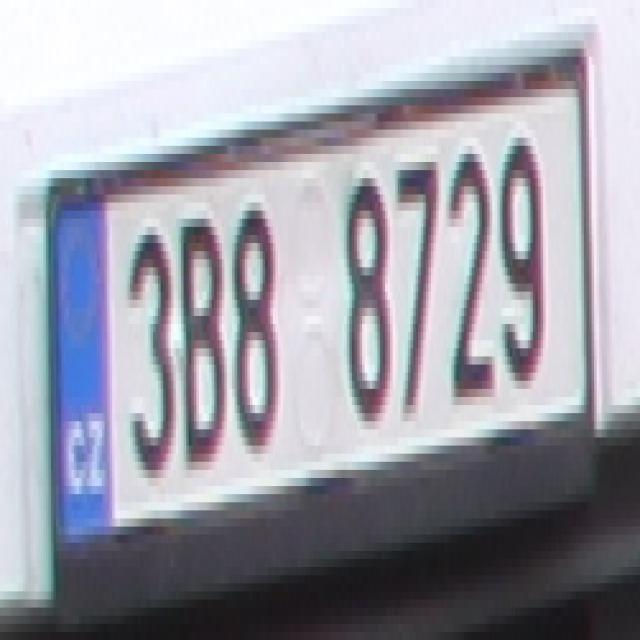2: (449, 146, 492, 397)
3: (127, 227, 171, 470)
7: (393, 154, 441, 413)
8: (344, 178, 393, 430), (230, 195, 280, 438)
9: (500, 121, 543, 372)
B: (178, 227, 224, 462)
